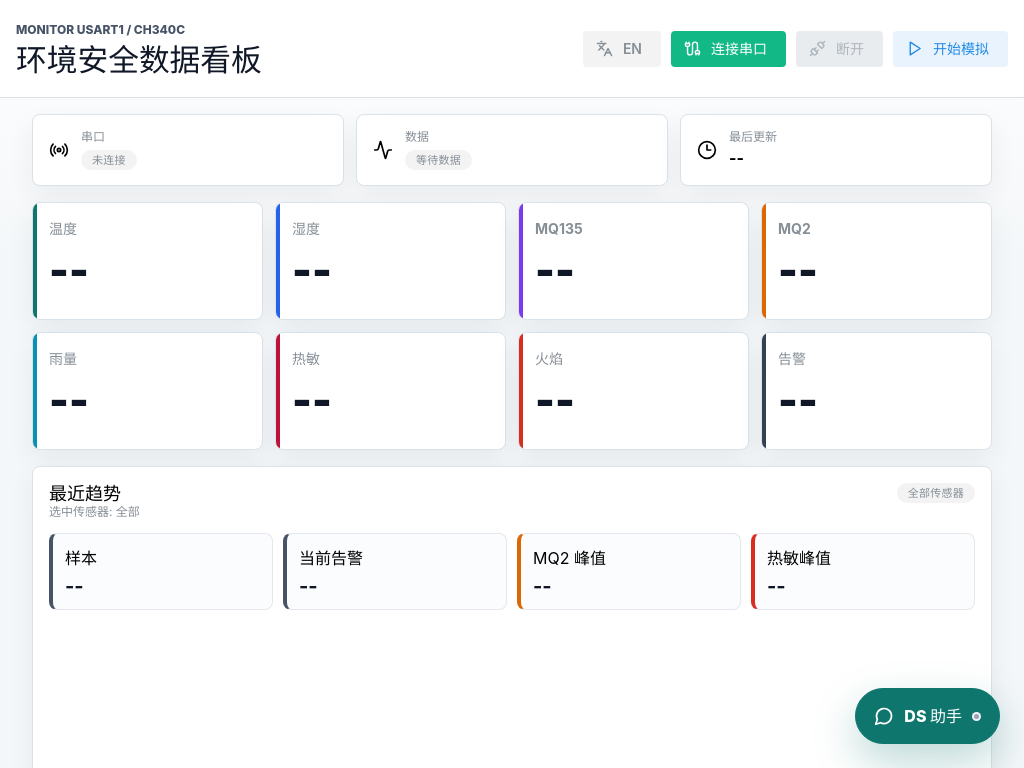
Test case: React dashboard › keeps only the DS launcher visible until it opens the floating panel
The width and height of the screenshot is (1024, 768).
Check: the heading "AI 洞察" is not shown
Click the button with aria-label "打开 DS 对话".
click(928, 716)  # box left=855, top=688, right=1000, bottom=744
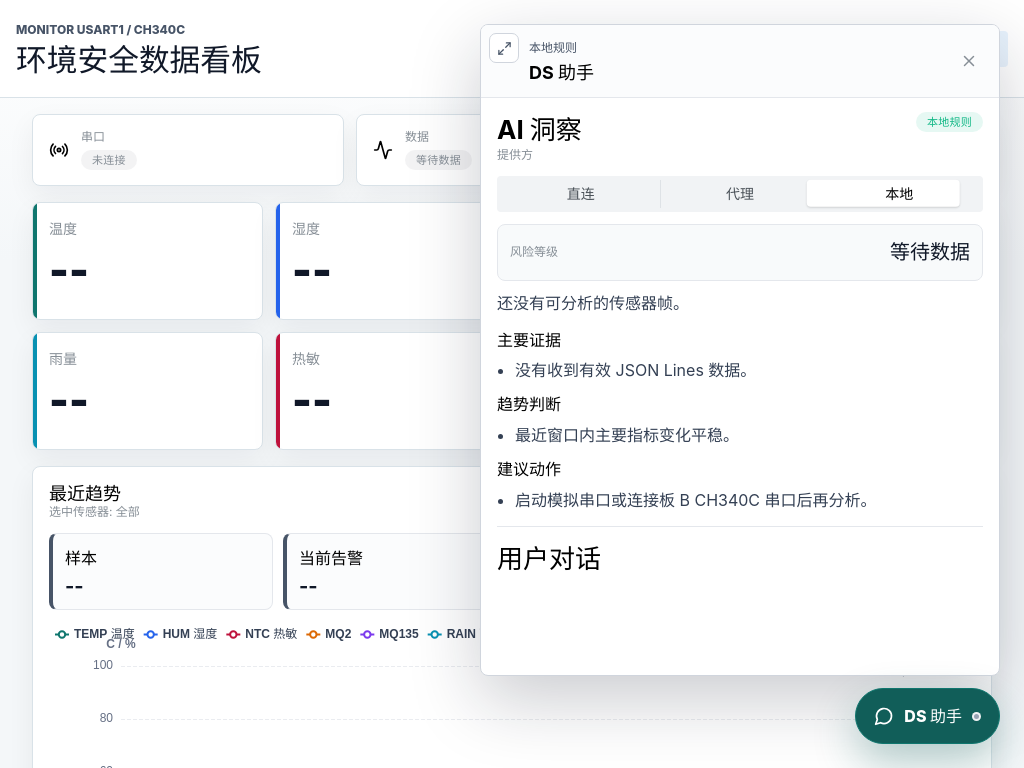
Check: the dialog named "DS 对话浮窗" is shown, box left=480, top=24, right=1000, bottom=676
Check: the heading "AI 洞察" is shown, box left=497, top=112, right=582, bottom=147
Check: the heading "用户对话" is shown, box left=497, top=543, right=601, bottom=574
